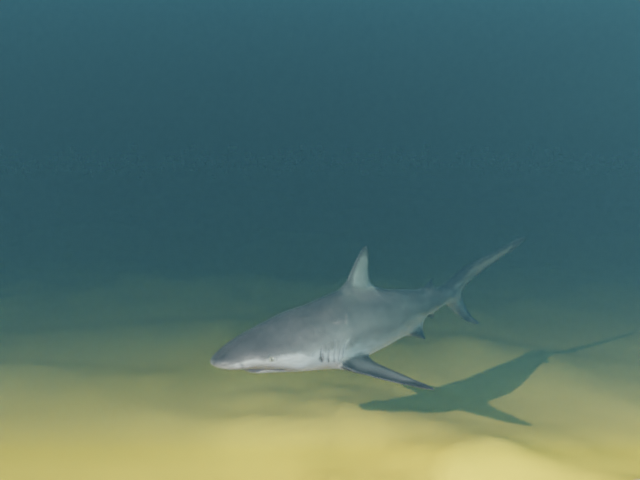Carribean Shark.001: (209, 237, 525, 390)
